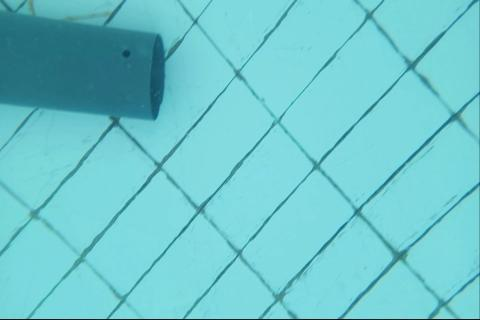kebocoran: (120, 47, 131, 59)
